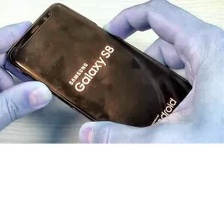phone: (2, 0, 219, 147)
